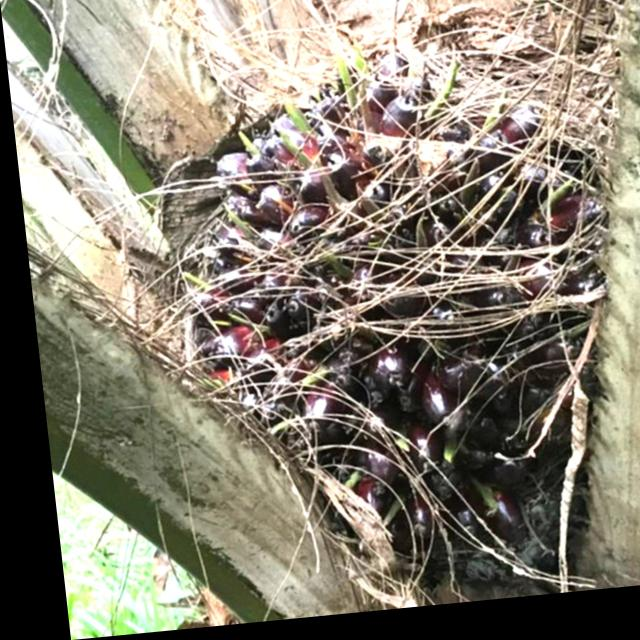ripe: (116, 10, 640, 577)
